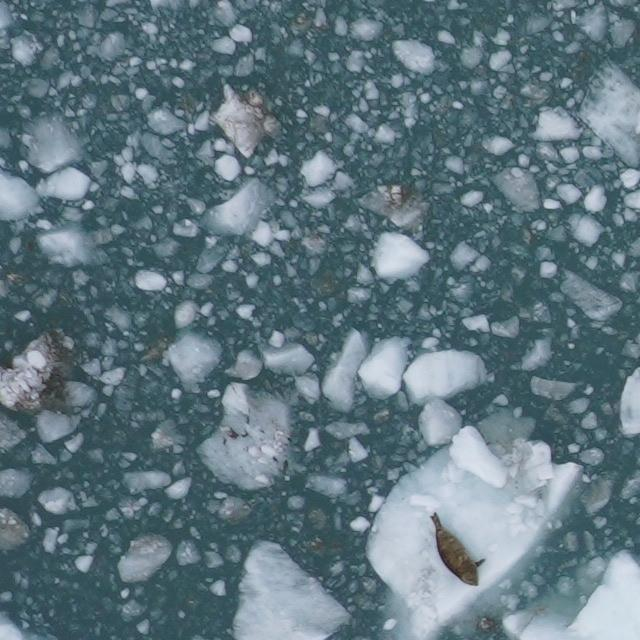seal: (426, 508, 491, 591)
